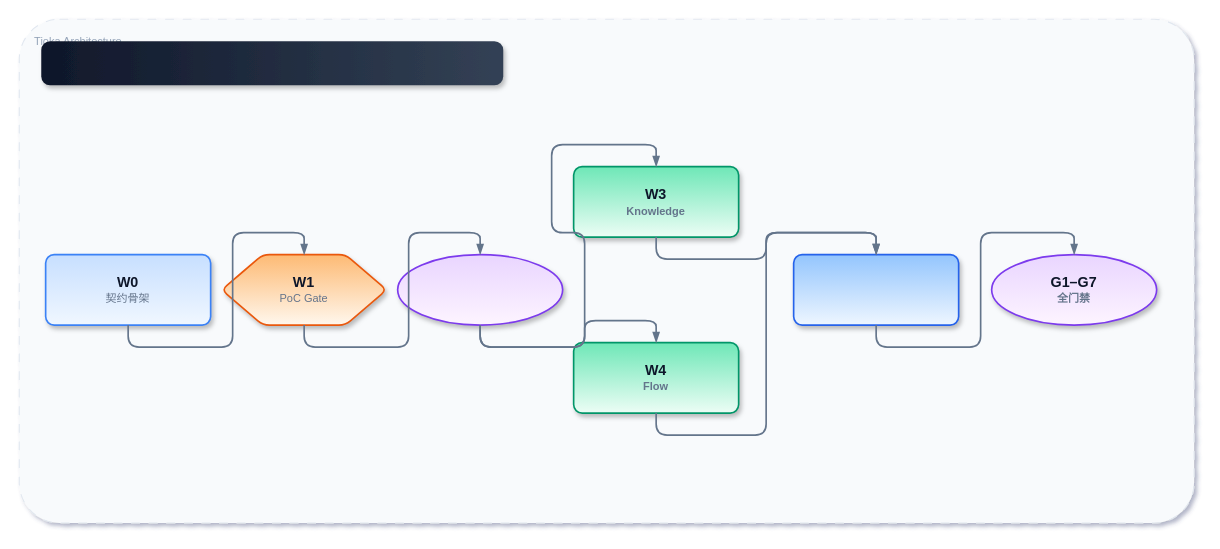
The diagram is 1220 pixels wide and 549 high, and some of its shapes have lost their labels. Here are the shapes that lost their labels. From the top down, the centre of each, then its label:
point 272,64: W0–W5 交付波次
point 481,291: W2 Orch+IM
point 877,291: W5 密度+HA
